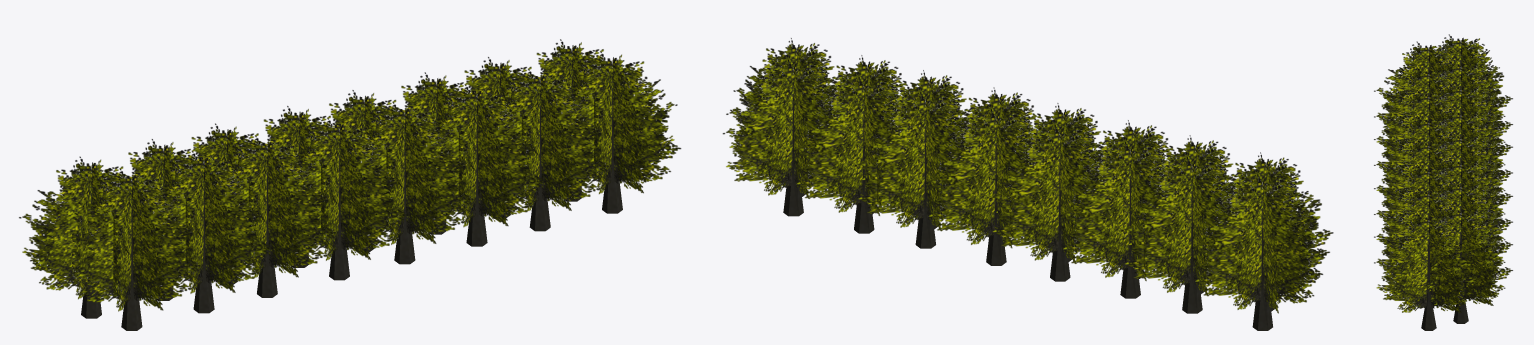
Rendered from tree_oak.glb.
3 renders of one model, left to right at view 1: azimuth 30°, elevation 25°; view 2: azimuth 150°, elevation 25°; view 3: azimuth 270°, elevation 25°, orthographic. The views are drawn at different scales.
Parts seen in each view (by area): view 1: tree14; view 2: tree14; view 3: tree14.
Boxes of the visible parts, left/top/right/bottom form: tree14: left=19, top=39, right=681, bottom=330; tree14: left=722, top=38, right=1333, bottom=330; tree14: left=1374, top=34, right=1512, bottom=330.
Size of the model in its own units: 552 by 126 by 153.
1 material, 1 textured.
